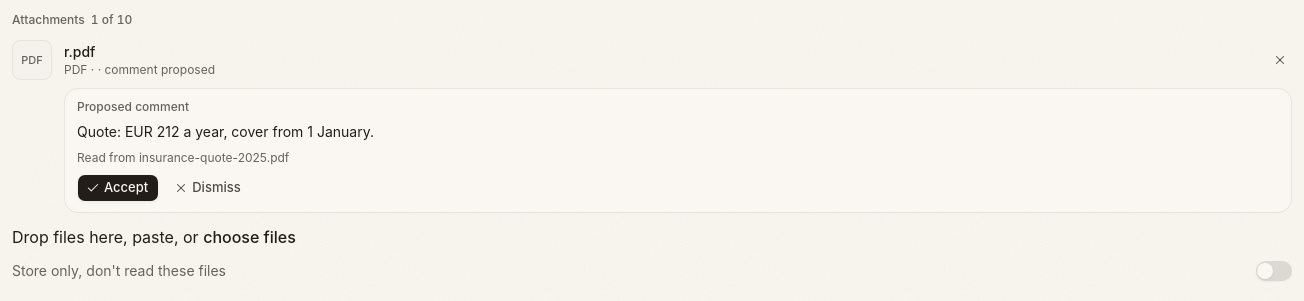
Test: PlannerTaskAttachments › accepting the card under a file marks the comment as added
The image size is (1304, 301).
Click the button "Accept" at (118, 188), box left=77, top=174, right=159, bottom=202
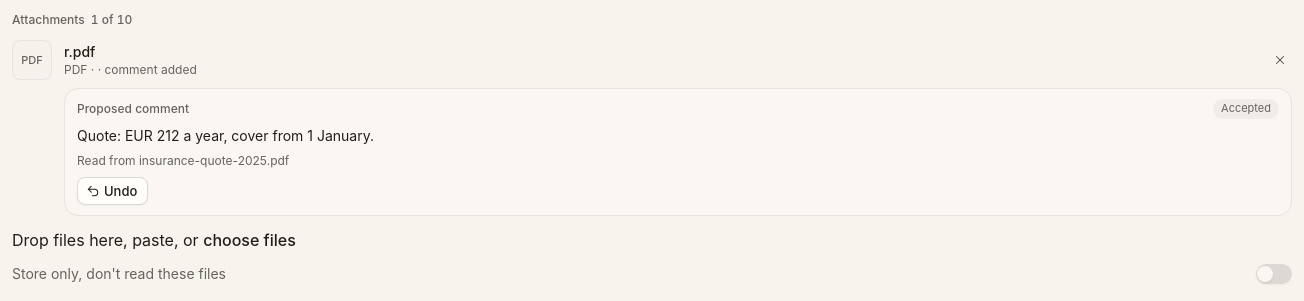
expect the list item with test id "planner-attachment" shows "comment added": met, box left=104, top=62, right=197, bottom=77
